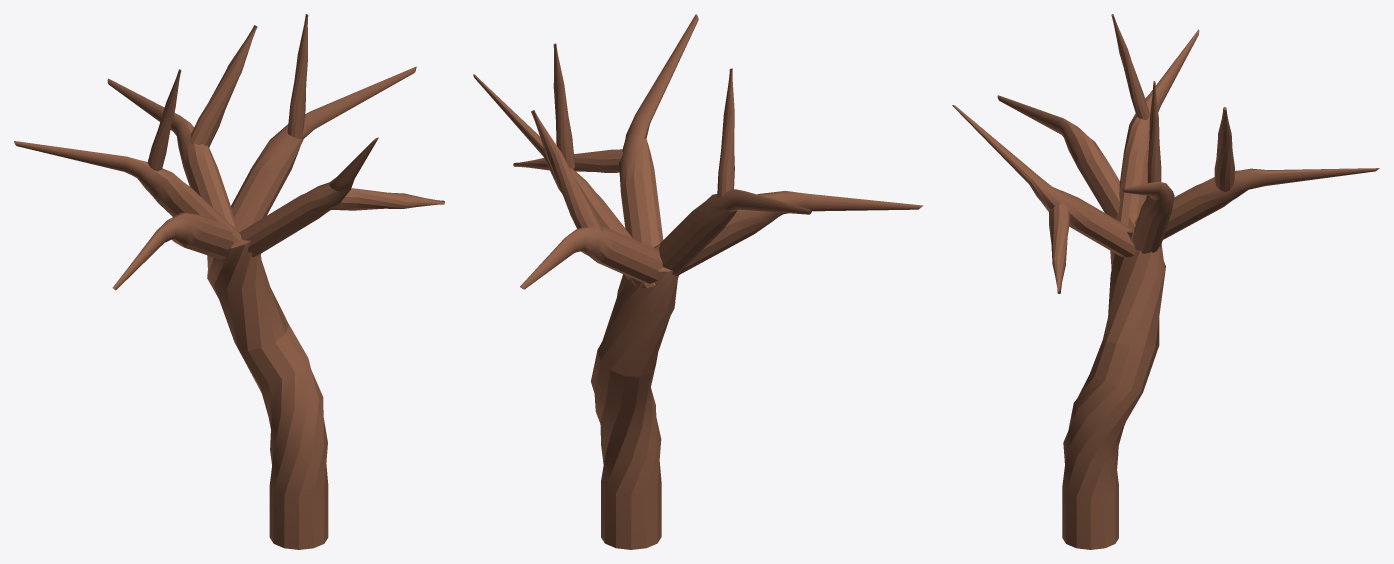
Rendered from tree yo.fbx.
3 views of the same model, side by side, from view 1: azimuth 30°, elevation 25°; view 2: azimuth 150°, elevation 25°; view 3: azimuth 270°, elevation 25° (orthographic). The views are drawn at different scales.
Visible parts, largest first — view 1: polySurface74; view 2: polySurface74; view 3: polySurface74.
Boxes of the visible parts, <box> form: polySurface74: <box>14,14,444,549</box>; polySurface74: <box>473,14,922,549</box>; polySurface74: <box>952,14,1379,549</box>.
Bounding box in the file's own units: 14.57 × 18.49 × 15.06.
